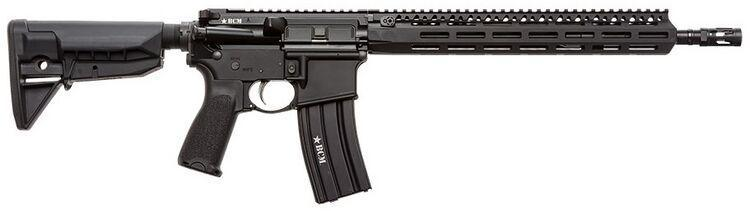gun: (3, 4, 744, 207)
